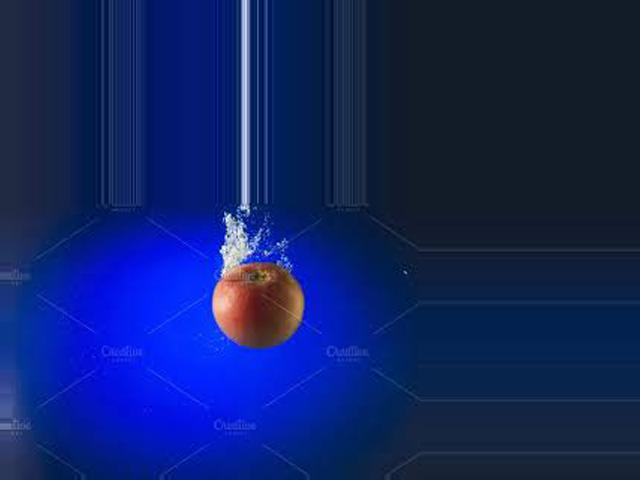tomato: (212, 262, 305, 346)
